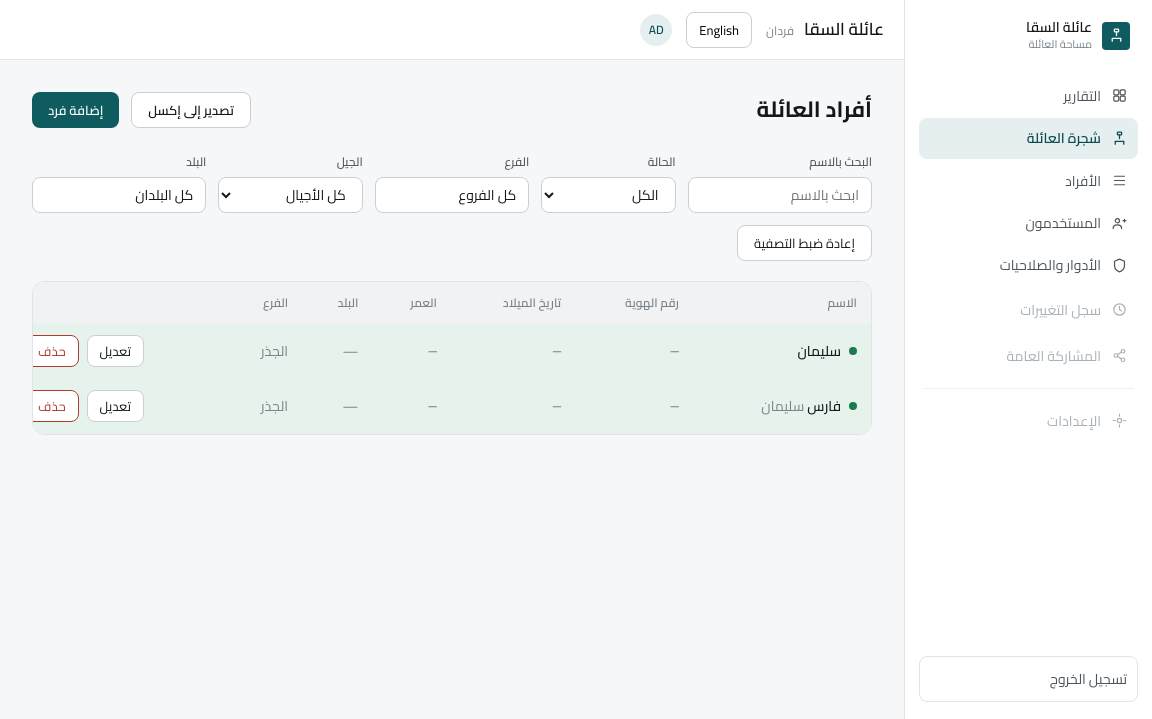
Test: MembersPage › shows the ancestry beside the name field, since editing hides the parent selector
Expected: the text "فارس" is shown, [807, 393, 841, 419]
Click the button "تعديل" in the row of "فارس" at {"x": 115, "y": 406}, box [87, 390, 144, 422]
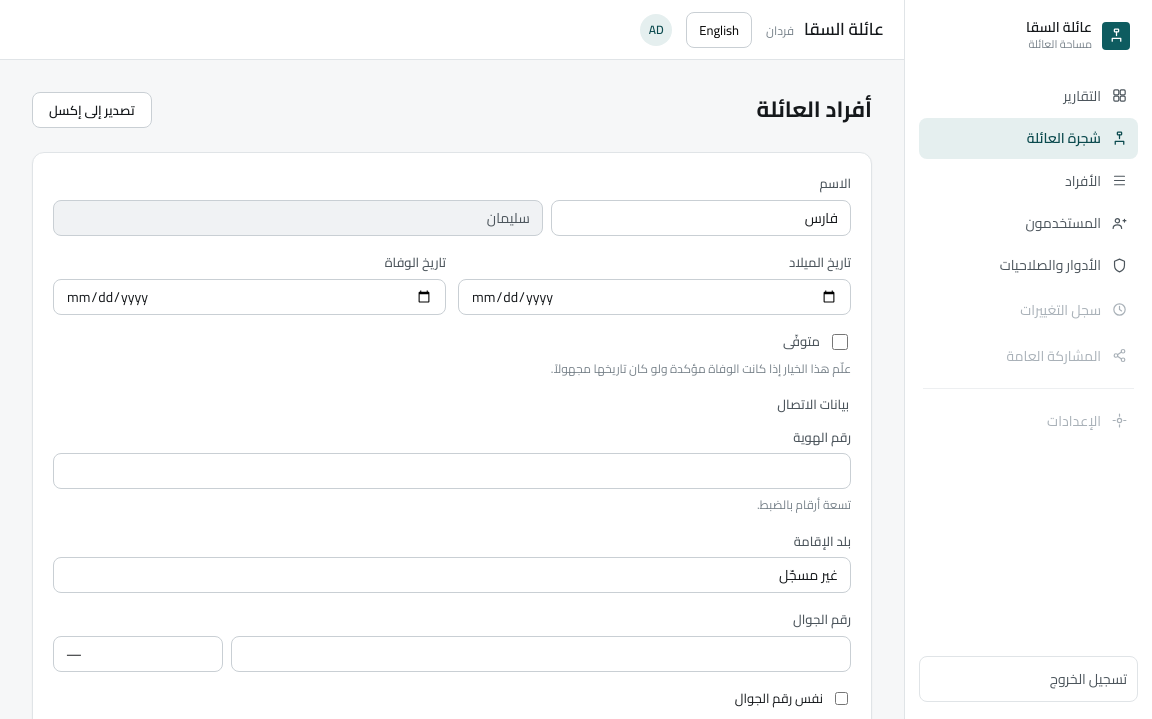
Expected: the field named "النسب" holds "سليمان", [53, 200, 543, 236]
Expected: the field named "النسب" is disabled, [53, 200, 543, 236]
